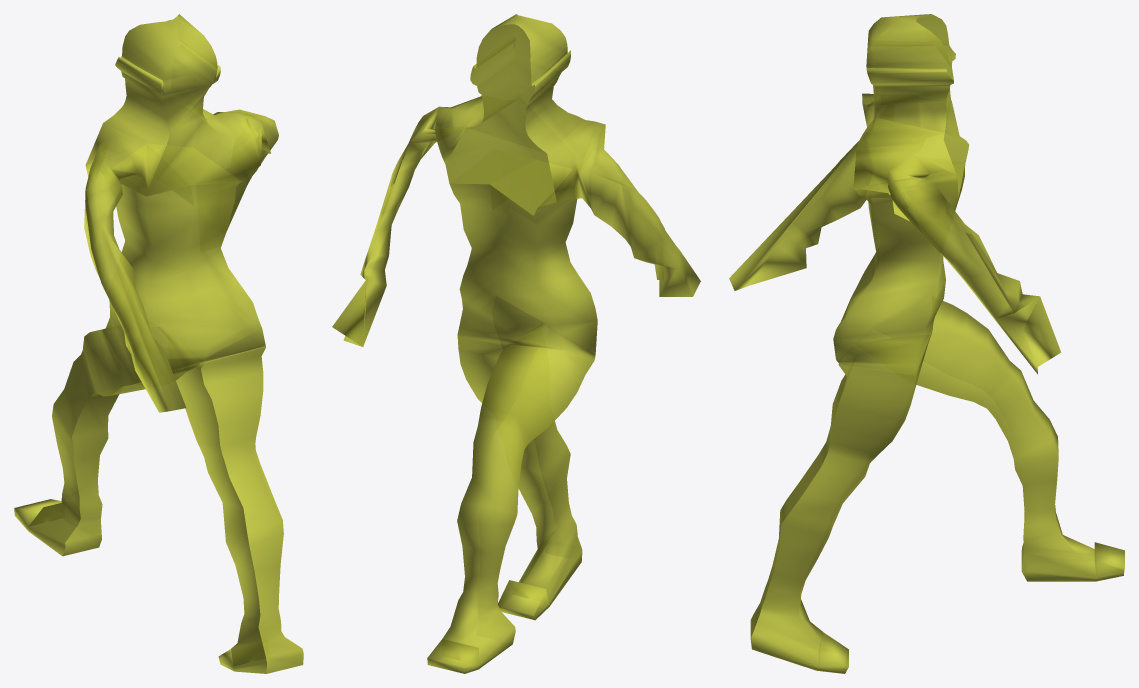
Rendered from woman_000019.obj.
3 views of the same model, side by side, from view 1: azimuth 30°, elevation 25°; view 2: azimuth 150°, elevation 25°; view 3: azimuth 270°, elevation 25° (orthographic).
Visible parts, largest first — view 1: Cube_Cube.001; view 2: Cube_Cube.001; view 3: Cube_Cube.001.
Boxes of the visible parts, box(x1,y1,x2,y2) form: Cube_Cube.001: box(14, 14, 303, 673); Cube_Cube.001: box(332, 14, 700, 673); Cube_Cube.001: box(729, 14, 1124, 673).
Size of the model in its own units: 3.62 by 9.96 by 5.68.
